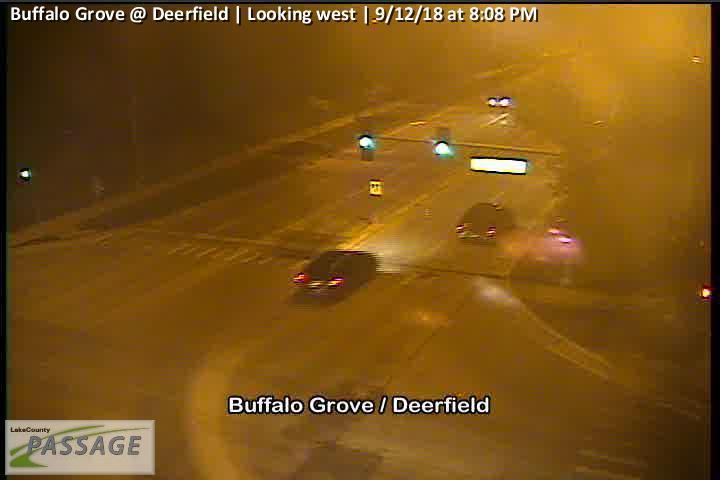Sedan: (291, 249, 377, 300), (456, 202, 512, 243), (485, 87, 518, 104)
